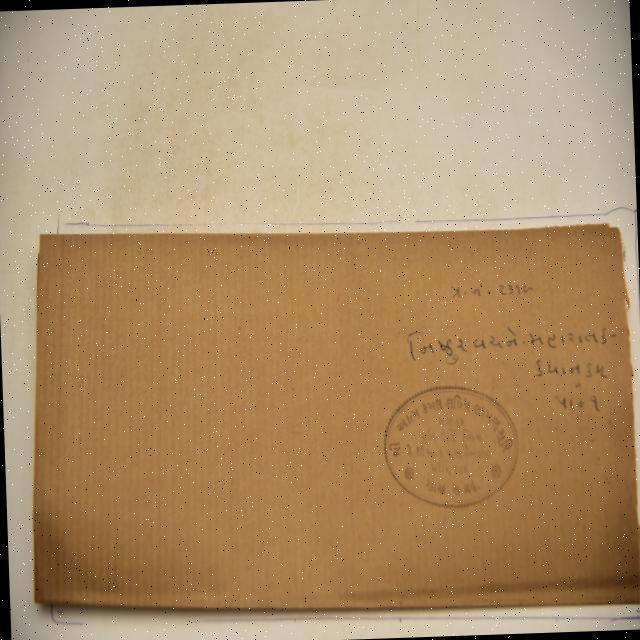text_paragraph: (34, 220, 639, 607)
